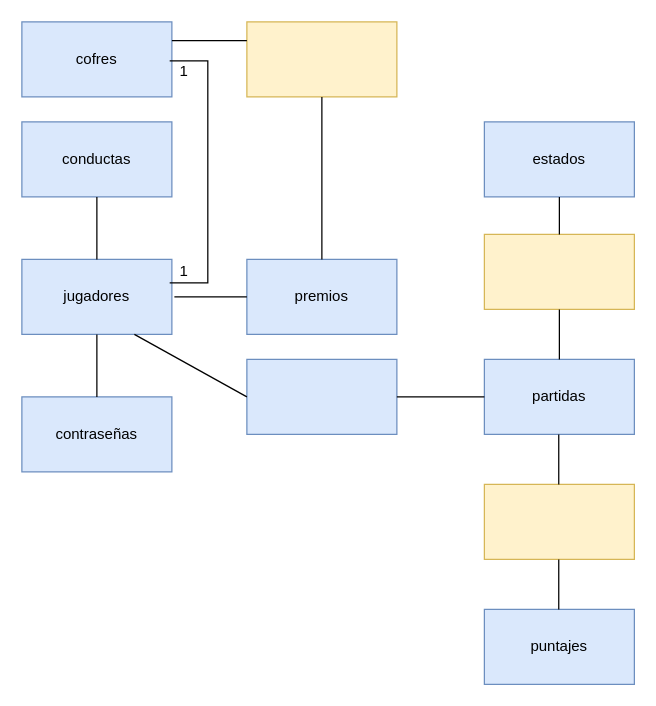
Some shapes in this 656 by 706 pixel diagram are drawn without their labels. The shapes that lost their labels are listed below. From the top down, each one's centre as x and y in pixels, then its label:
point (321, 59): codigos
point (558, 271): estados_partidas
point (321, 396): Torneos
point (558, 521): puntajes_partidas
